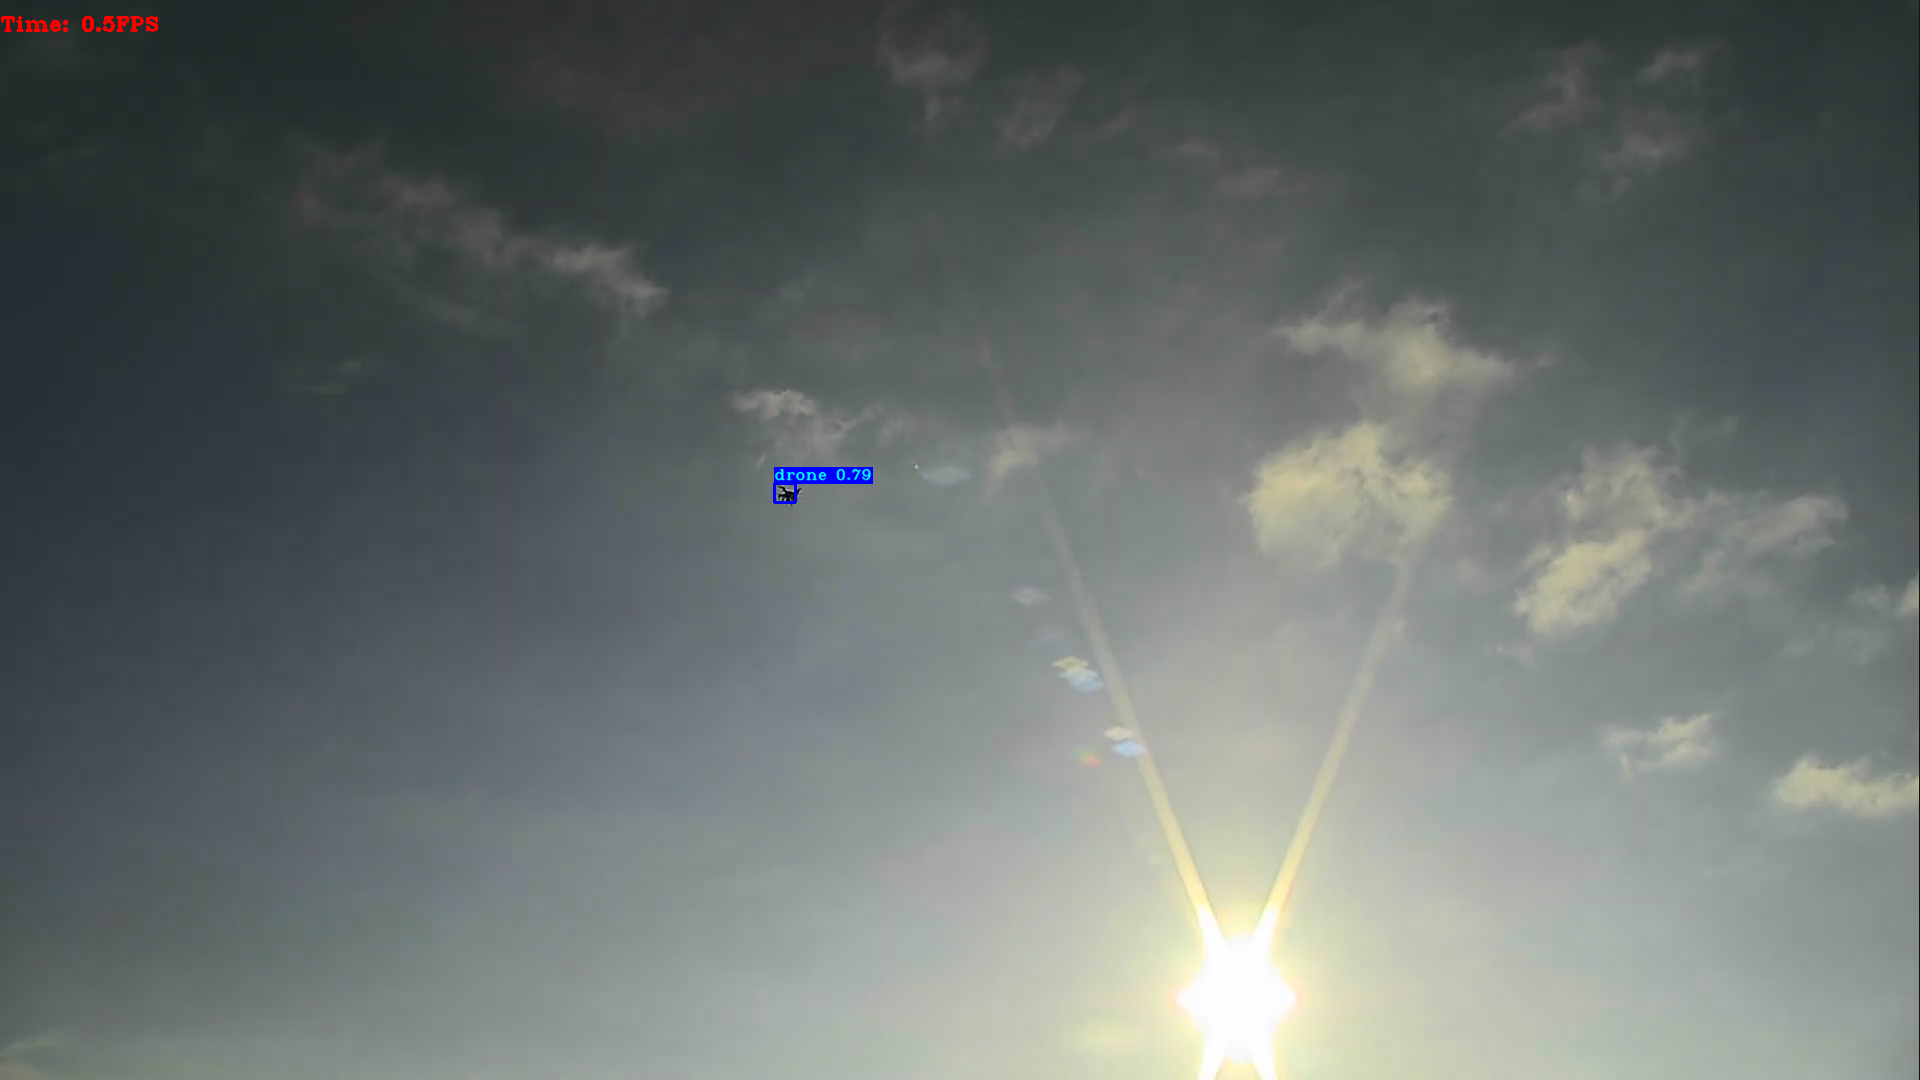drone: (774, 483, 795, 502)
